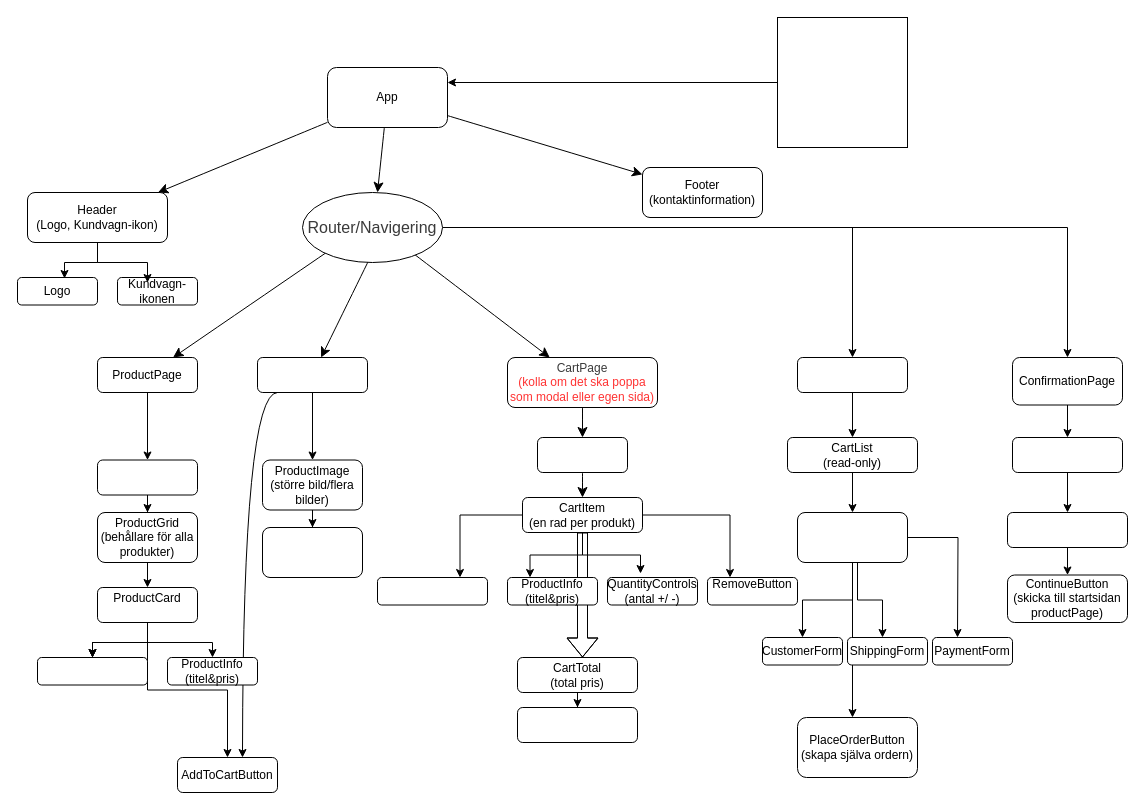
Some shapes in this 1145 by 810 pixel diagram are drawn without their labels. The shapes that lost their labels are listed below. From the top down, each one's centre as x and y in pixels, then its label:
At point 842,82: "Context".
At point 312,374: "ProductDetailPage".
At point 852,374: "CheckoutPage".
At point 582,454: "CartList (lista med varor)".
At point 1067,454: "SuccessMessage".
At point 147,477: "CategoryFilter (filter-knappar)".
At point 852,537: "CheckoutFlow (3 steg)".
At point 1067,530: "OrderDetails (ordernr, info)".
At point 312,552: "Productinfo (titel,pris, beskrivning)".
At point 432,590: "ProductImage (miniatyrbild)".
At point 92,670: "ProductImage (bilden)".
At point 577,724: "CheckoutButton (gå till kassan)".
